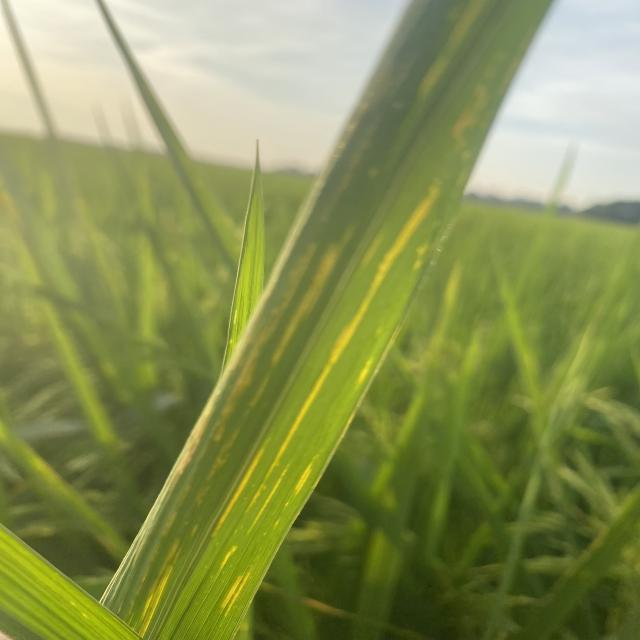Dom soc vi khuan: (244, 188, 440, 514), (212, 439, 270, 538), (137, 538, 182, 639), (218, 566, 254, 617), (293, 461, 314, 495), (219, 544, 238, 570)
